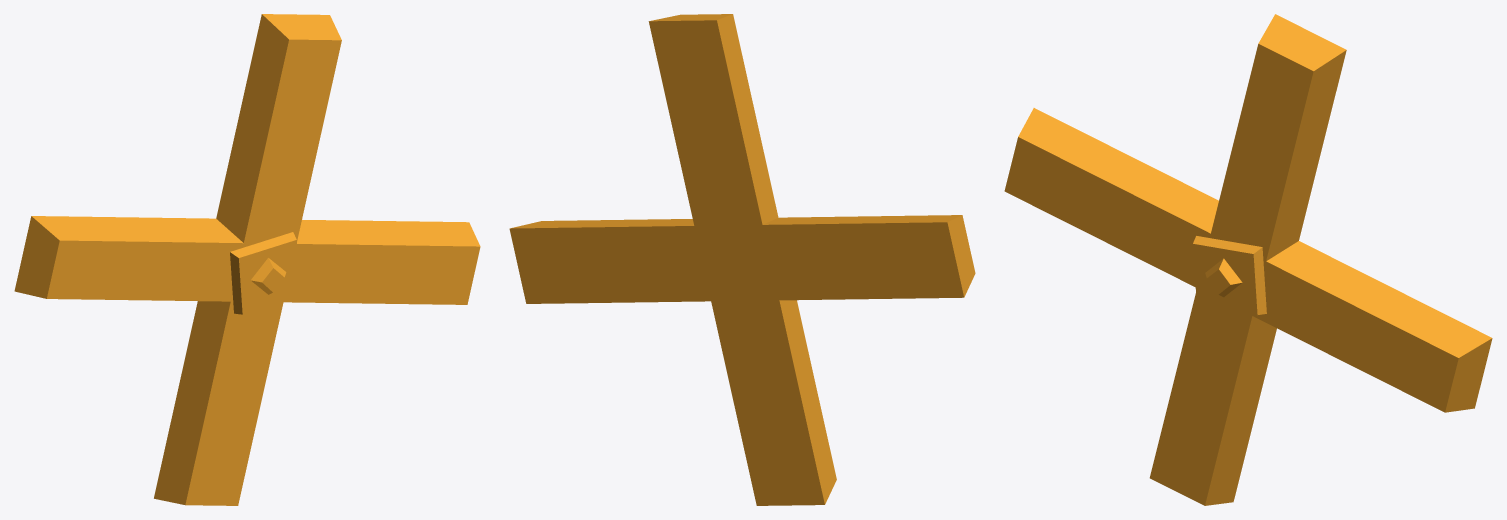
Rendered from SM_Anchor_Plate_Cross_Fantasy.fbx.
3 renders of one model, left to right at view 1: azimuth 30°, elevation 25°; view 2: azimuth 150°, elevation 25°; view 3: azimuth 330°, elevation 25°, orthographic. The views are drawn at different scales.
Parts seen in each view (by area): view 1: SM_Anchor_Plate_Cross_Fantasy; view 2: SM_Anchor_Plate_Cross_Fantasy; view 3: SM_Anchor_Plate_Cross_Fantasy.
Boxes of the visible parts, <box> form: SM_Anchor_Plate_Cross_Fantasy: <box>14,14,480,505</box>; SM_Anchor_Plate_Cross_Fantasy: <box>509,14,975,505</box>; SM_Anchor_Plate_Cross_Fantasy: <box>1004,14,1492,505</box>.
Bounding box in the file's own units: 0.8395 × 0.8395 × 0.1048.
